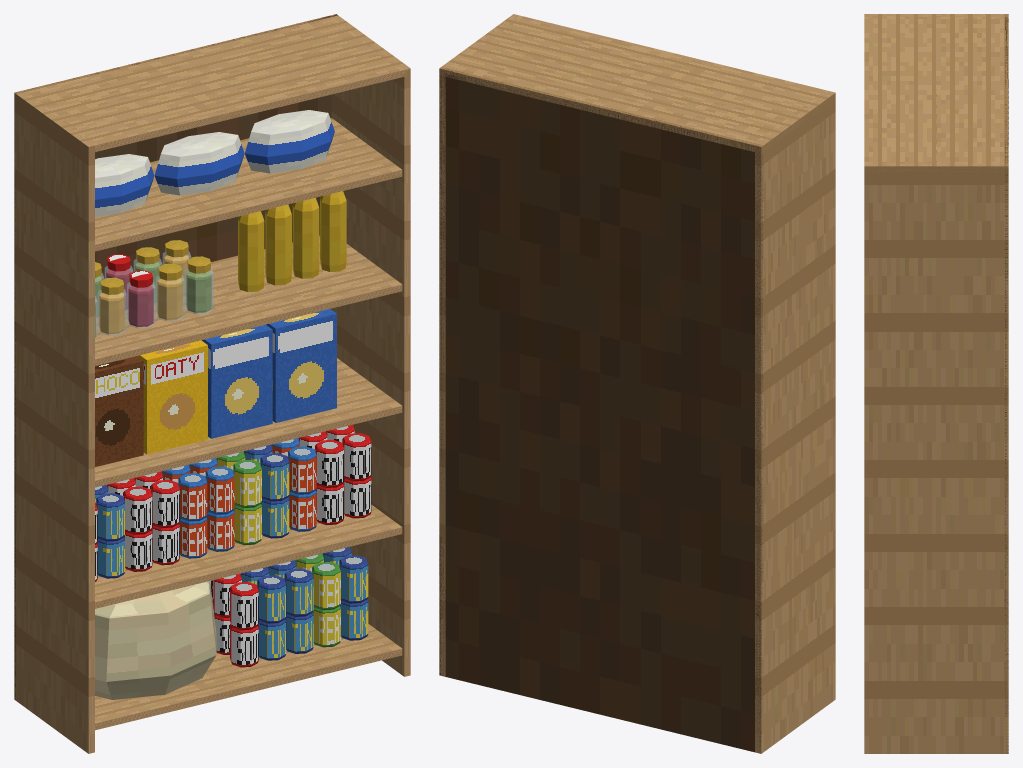
Rendered from PSX_ShelvesPropsNormalItemsPantryShelf.glb.
The picture shows the model from 3 angles, left to right: view 1: azimuth 30°, elevation 25°; view 2: azimuth 150°, elevation 25°; view 3: azimuth 270°, elevation 25°; orthographic projection. The views are drawn at different scales.
Visible parts, largest first — view 1: PantryShelf; view 2: PantryShelf; view 3: PantryShelf.
Part boxes in pixels (left/top/right/bottom): PantryShelf: left=14, top=14, right=410, bottom=753; PantryShelf: left=439, top=14, right=835, bottom=753; PantryShelf: left=864, top=14, right=1008, bottom=753.
Size of the model in its own units: 1 by 1.8 by 0.4.
Materials: 18 (18 with a texture image).
